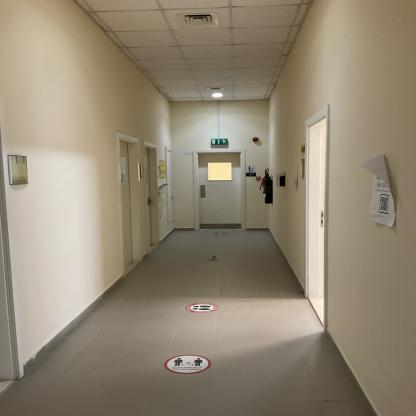closed: (182, 140, 254, 238)
